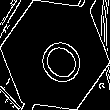O_NW: (24, 23, 86, 87)
